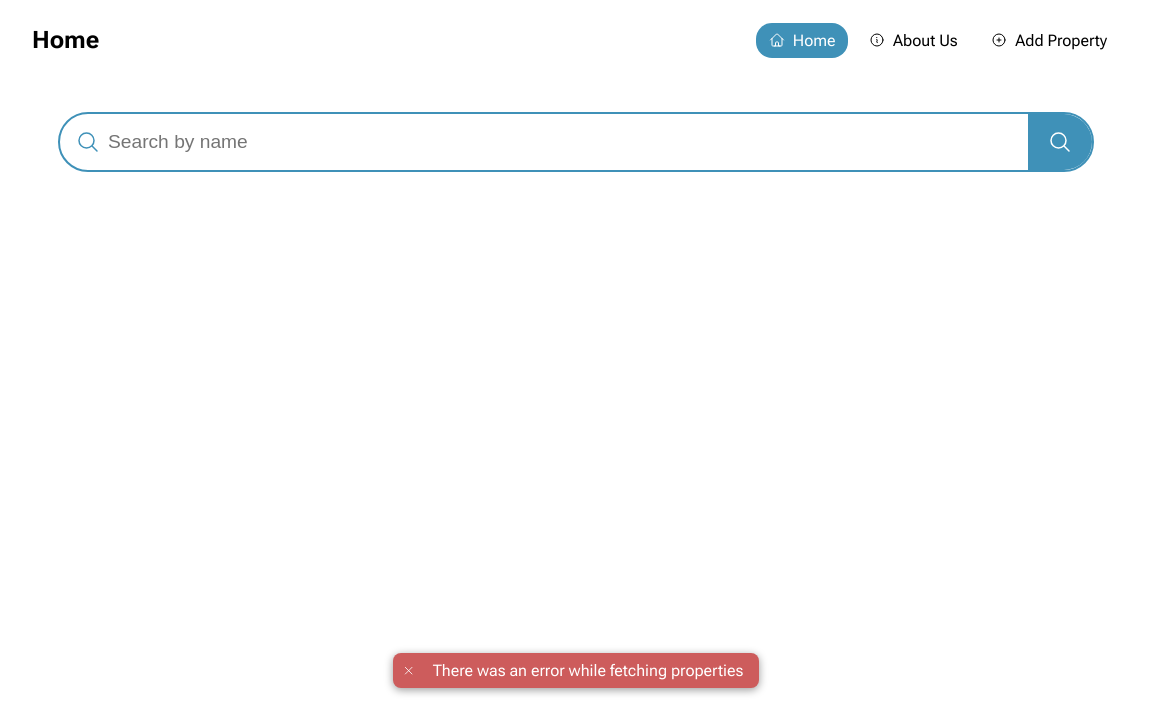
Test case: Navigation › About Us Link should work
Expected: the heading "Home" is shown, [32,26,99,54]
Click the link to "/about-us".
click(914, 41)  # box [869,31,958,50]
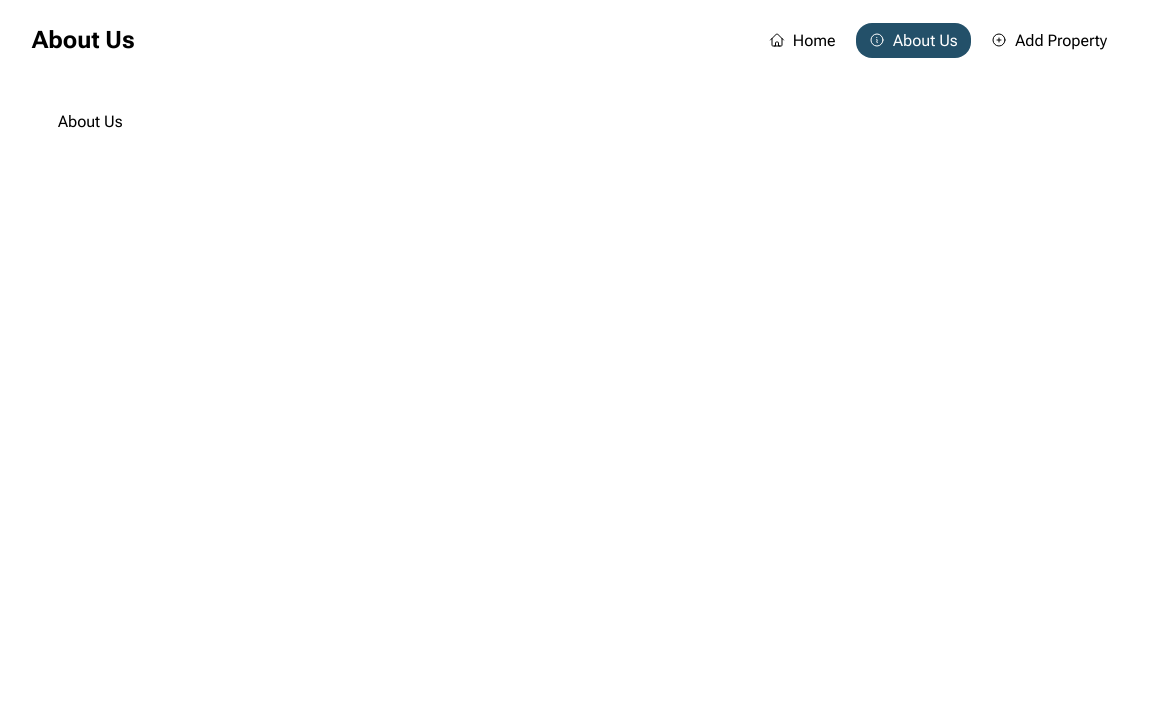
Expected: the heading "About Us" is shown, [32,26,135,54]
